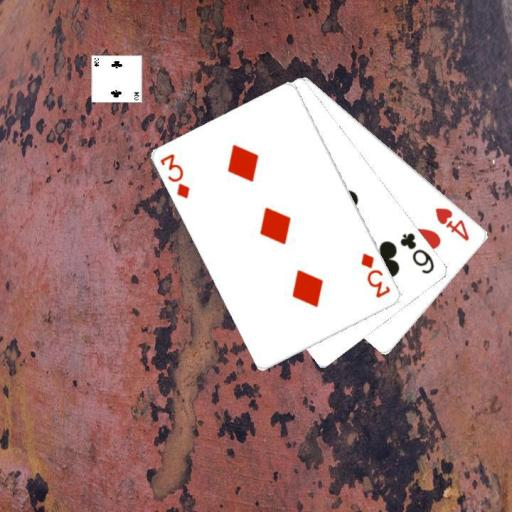3D: (157, 150, 192, 201), (358, 250, 393, 300)
4H: (433, 204, 472, 243)
6C: (397, 229, 437, 276)
